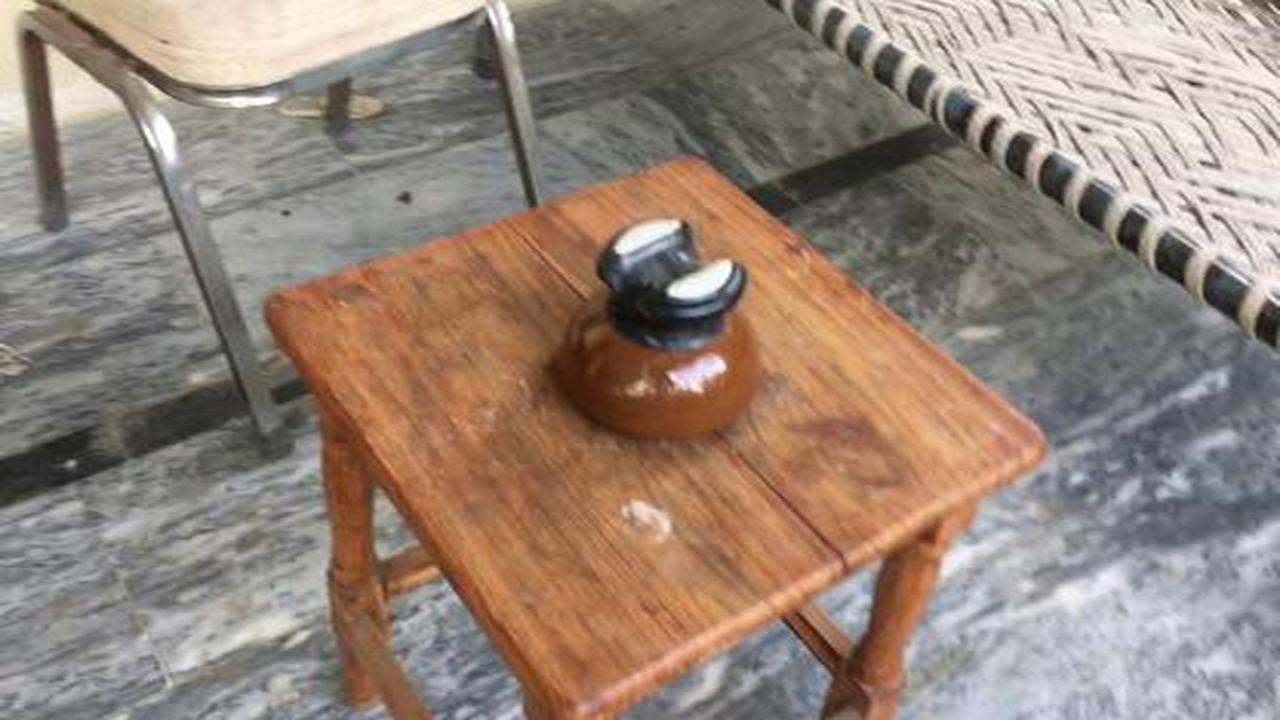insulator_pin: (536, 205, 779, 461)
